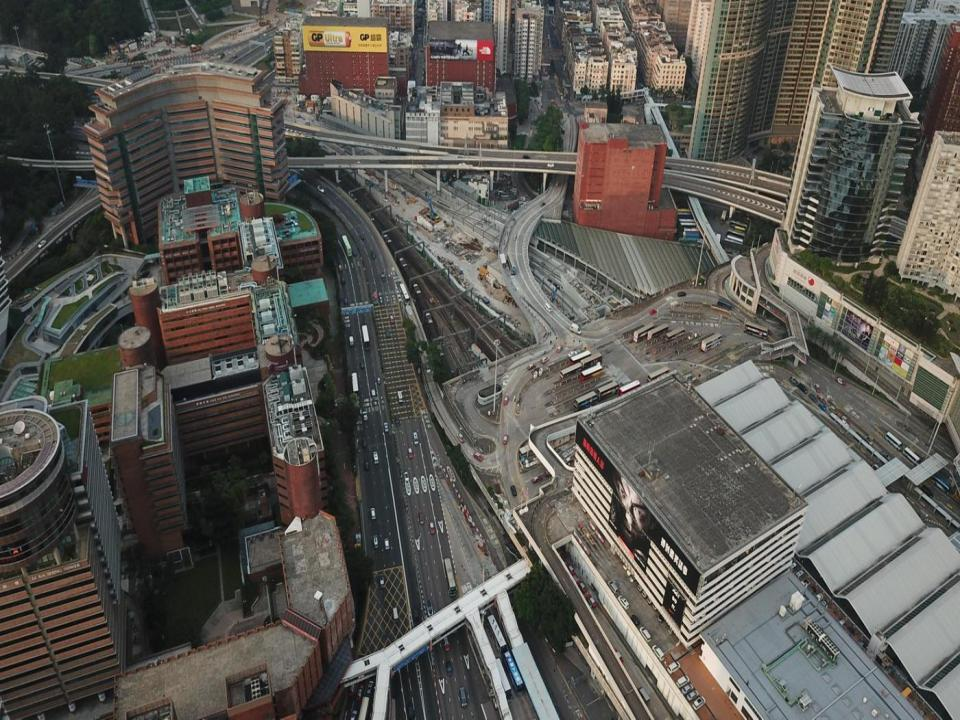bus: (487, 613, 509, 658), (503, 650, 524, 697), (492, 658, 513, 703), (573, 390, 598, 412), (595, 380, 619, 402), (444, 557, 457, 597), (743, 321, 769, 340), (569, 350, 593, 370), (579, 352, 603, 372), (579, 362, 603, 382), (616, 380, 640, 400), (560, 362, 582, 383), (699, 332, 722, 352), (633, 324, 655, 344), (646, 322, 668, 340), (884, 432, 903, 452), (931, 474, 949, 494), (664, 326, 685, 343), (903, 447, 920, 467), (351, 372, 360, 400), (341, 234, 352, 256), (362, 323, 370, 350), (506, 253, 516, 274), (400, 282, 409, 304), (717, 298, 731, 311), (712, 233, 720, 249), (719, 209, 727, 223), (393, 607, 398, 622), (413, 608, 418, 621), (374, 290, 378, 302), (561, 126, 565, 133)
car: (346, 678, 357, 697), (613, 647, 624, 664), (564, 561, 575, 576), (586, 593, 597, 607), (577, 578, 587, 593), (356, 683, 364, 701), (426, 598, 433, 617), (870, 462, 881, 474), (853, 431, 863, 444), (839, 413, 850, 424), (880, 450, 891, 461), (554, 547, 564, 559), (562, 455, 574, 465), (442, 634, 449, 651), (543, 466, 554, 476), (816, 393, 826, 403), (472, 452, 483, 461), (37, 240, 46, 250), (828, 405, 838, 414), (864, 436, 873, 446), (531, 475, 542, 483), (531, 366, 542, 374), (835, 376, 846, 384), (446, 661, 452, 675), (510, 484, 517, 496), (568, 349, 577, 358), (808, 393, 817, 402), (818, 402, 827, 411), (764, 326, 772, 336), (408, 446, 414, 459), (457, 432, 464, 443), (429, 519, 434, 534), (395, 415, 400, 428), (540, 356, 549, 363), (426, 362, 431, 374), (814, 382, 820, 392), (317, 185, 324, 193), (556, 345, 563, 353), (503, 434, 508, 445), (384, 422, 389, 433), (503, 395, 509, 404), (350, 710, 356, 719), (456, 162, 466, 167), (362, 410, 367, 420), (340, 276, 345, 285), (404, 472, 409, 481), (386, 327, 390, 338), (528, 364, 535, 370), (371, 250, 376, 258), (364, 460, 368, 470), (338, 264, 343, 271), (352, 249, 356, 257), (378, 159, 386, 163), (389, 315, 393, 323), (360, 360, 364, 368), (376, 376, 380, 384), (540, 201, 545, 207), (523, 155, 530, 159), (678, 292, 685, 296), (548, 162, 553, 167), (360, 233, 364, 239), (344, 298, 348, 304), (650, 311, 656, 314), (232, 55, 237, 58), (556, 181, 558, 185)
truck: (425, 190, 440, 222), (191, 44, 202, 53), (348, 336, 354, 346)
van: (357, 696, 371, 719), (638, 686, 650, 704), (920, 483, 934, 497), (459, 687, 467, 708), (570, 322, 582, 334), (407, 700, 414, 719), (366, 681, 374, 696), (799, 382, 807, 394), (418, 510, 424, 524), (379, 573, 385, 587), (544, 302, 552, 312), (373, 452, 379, 464), (414, 432, 419, 446), (373, 535, 378, 549), (370, 389, 376, 400), (370, 508, 376, 519), (383, 538, 389, 549), (397, 390, 402, 403), (362, 438, 367, 448), (300, 169, 304, 174), (514, 234, 516, 239)
